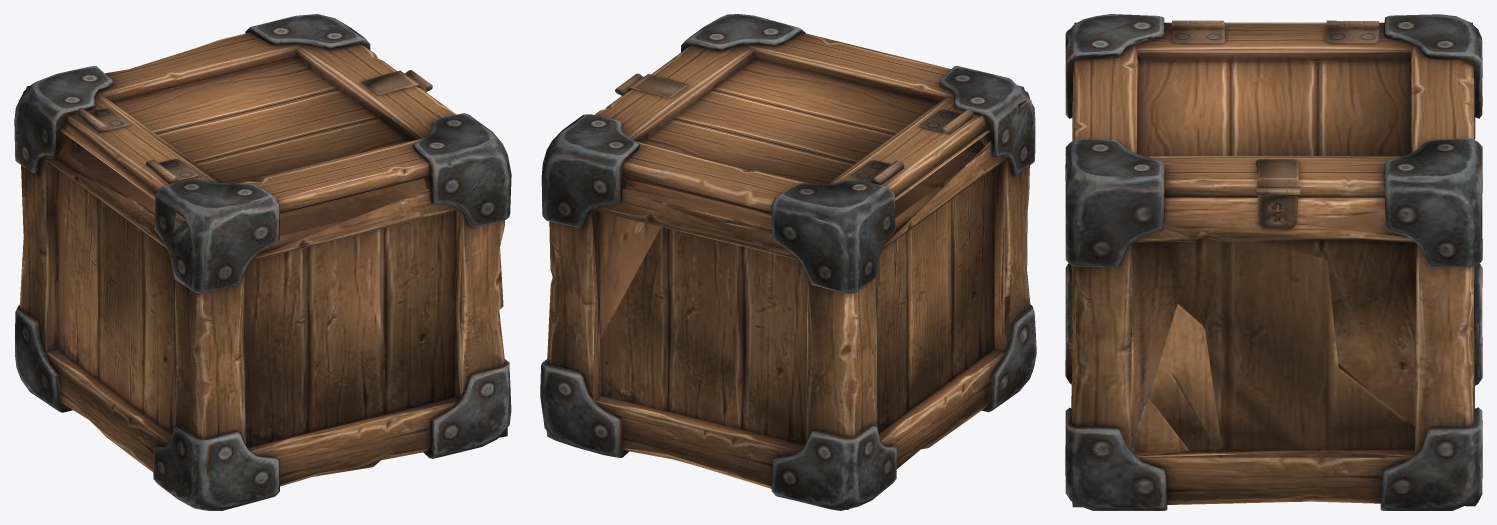
Rendered from crate_small.glb.
3 views of the same model, side by side, from view 1: azimuth 30°, elevation 25°; view 2: azimuth 150°, elevation 25°; view 3: azimuth 270°, elevation 25° (orthographic). The views are drawn at different scales.
Visible parts, largest first — view 1: crate_small; view 2: crate_small; view 3: crate_small.
Part boxes in pixels (x1=…): crate_small: x1=14, y1=14, x2=511, y2=510; crate_small: x1=540, y1=14, x2=1036, y2=510; crate_small: x1=1065, y1=14, x2=1482, y2=510.
Bounding box in the file's own units: 0.504 × 0.4536 × 0.5105.
Materials: 1 (1 with a texture image).
